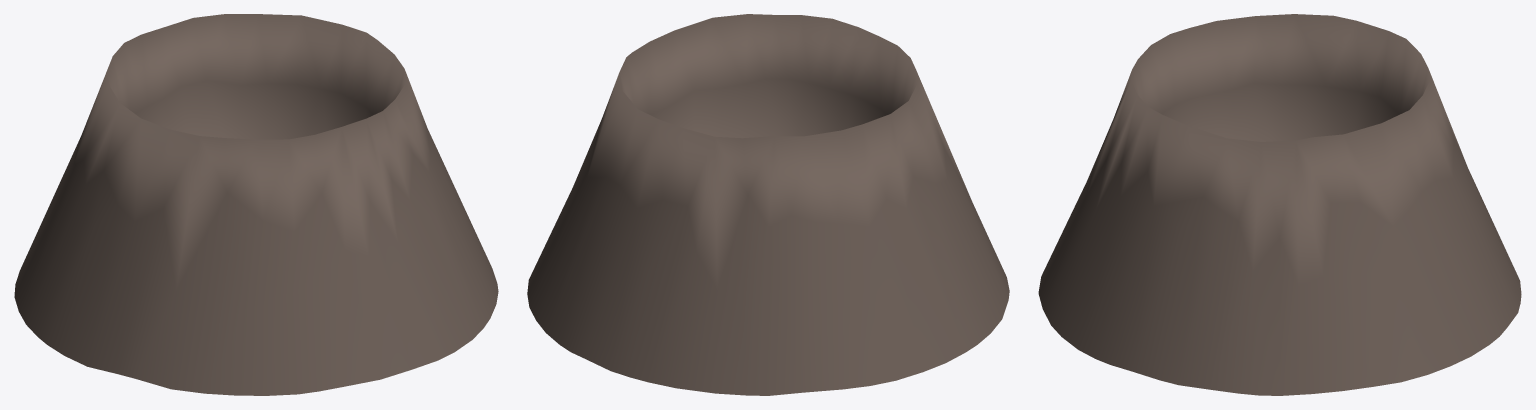
File: volcano_caldera_low.glb
3 renders of one model, left to right at view 1: azimuth 30°, elevation 25°; view 2: azimuth 150°, elevation 25°; view 3: azimuth 270°, elevation 25°, orthographic.
Parts seen in each view (by area): view 1: Volcano_CalderaBody_LOW; view 2: Volcano_CalderaBody_LOW; view 3: Volcano_CalderaBody_LOW.
Part boxes in pixels (x1,y1,x2,y2): Volcano_CalderaBody_LOW: (14,14,498,395); Volcano_CalderaBody_LOW: (527,14,1009,395); Volcano_CalderaBody_LOW: (1038,14,1521,395).
Size of the model in its own units: 2 by 1.01 by 2.
